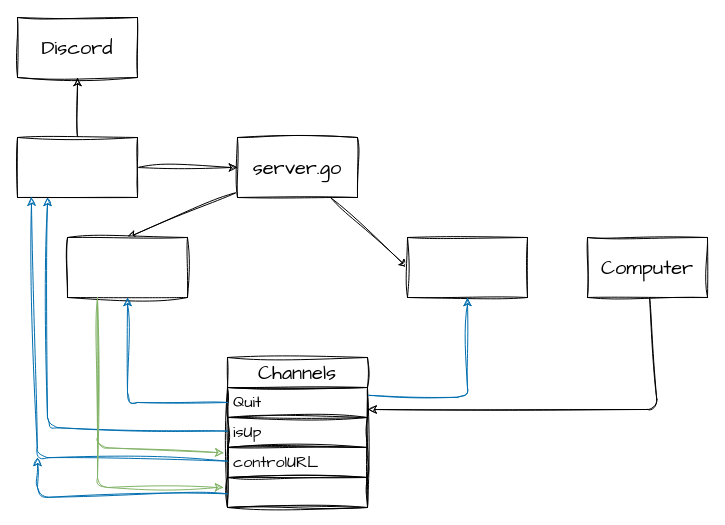
The diagram is 725 pixels wide and 525 high, and some of its shapes have lost their labels. The shapes that lost their labels are listed below. From the top down, each one's centre as x and y in pixels, then its label:
pixel 77 167: main.go
pixel 127 267: ssnet
pixel 467 267: server
pixel 297 492: serverIP
